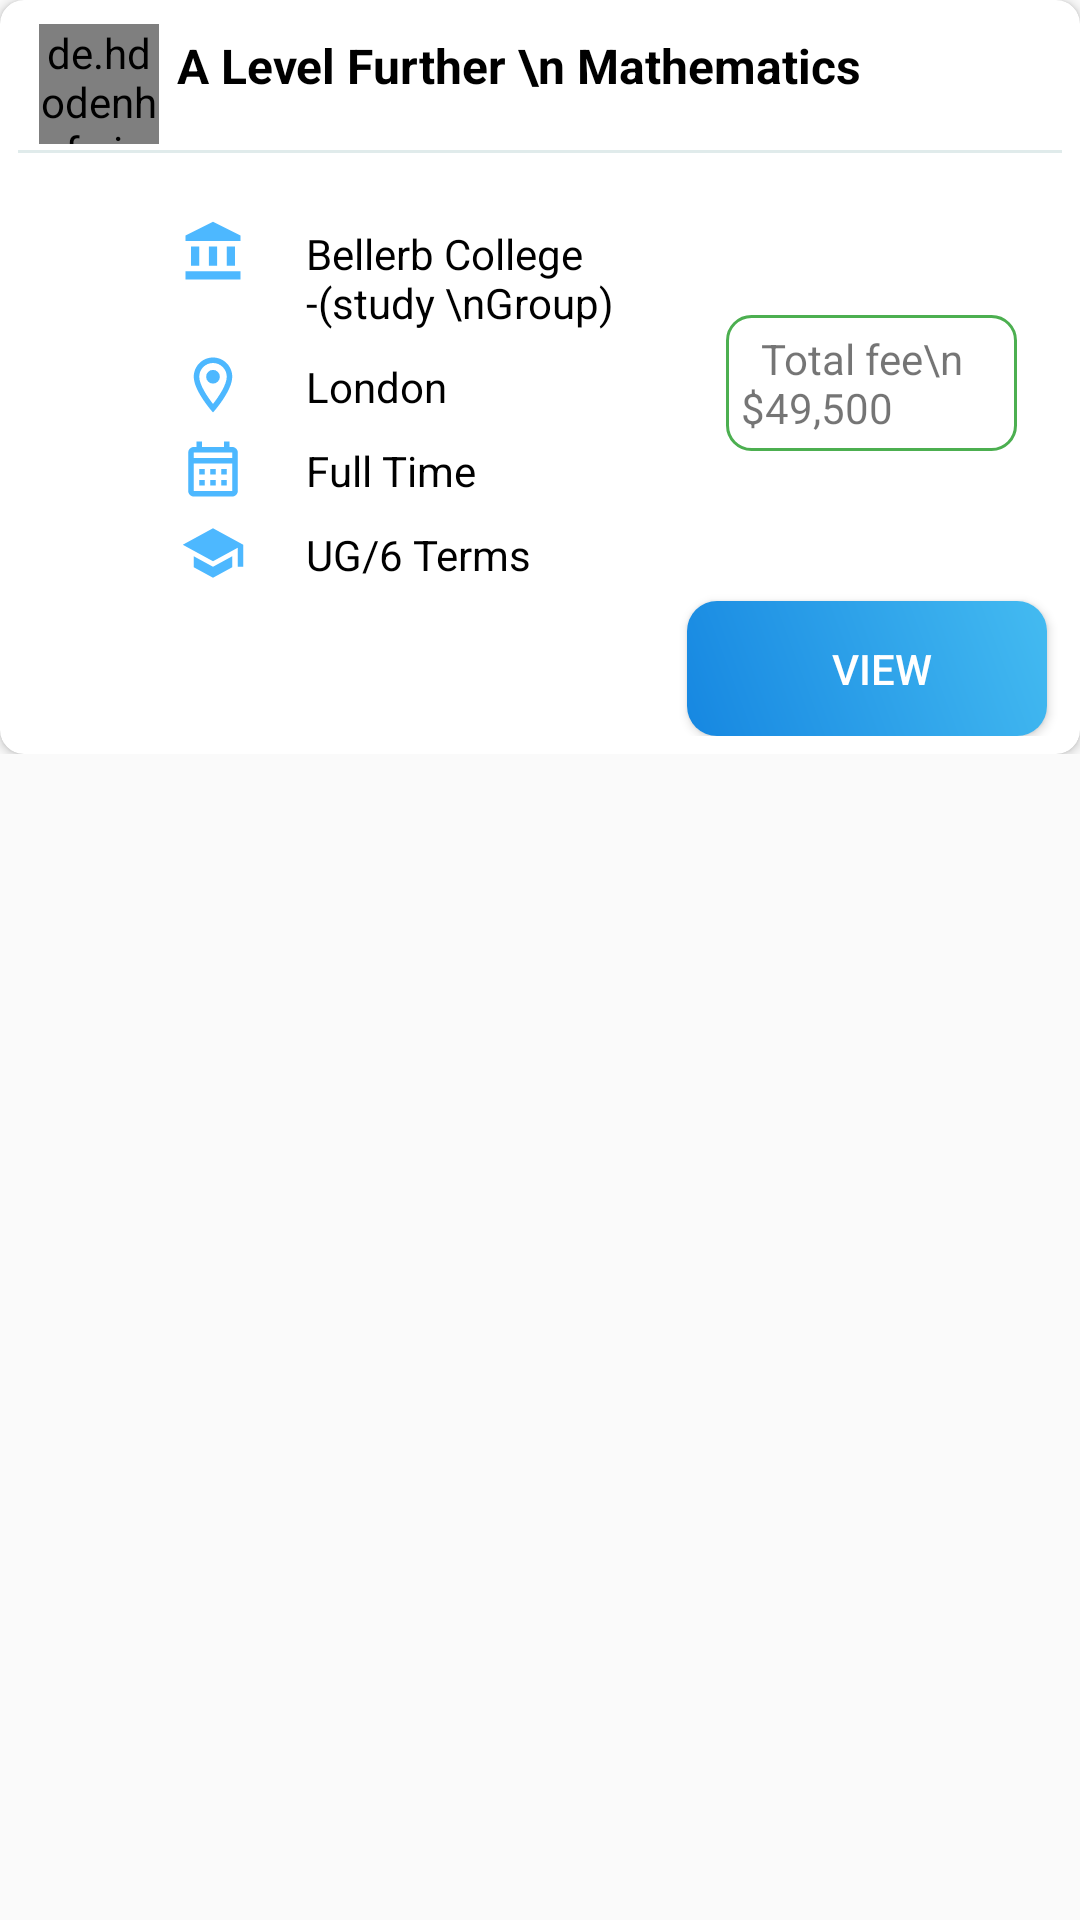

Where icons sit on this 1080 × 1920 app screen, as (x1, y1, x2, y2):
calender: (188, 441, 238, 497)
coursename: (183, 528, 244, 578)
location: (193, 357, 233, 412)
university name: (185, 222, 241, 280)
